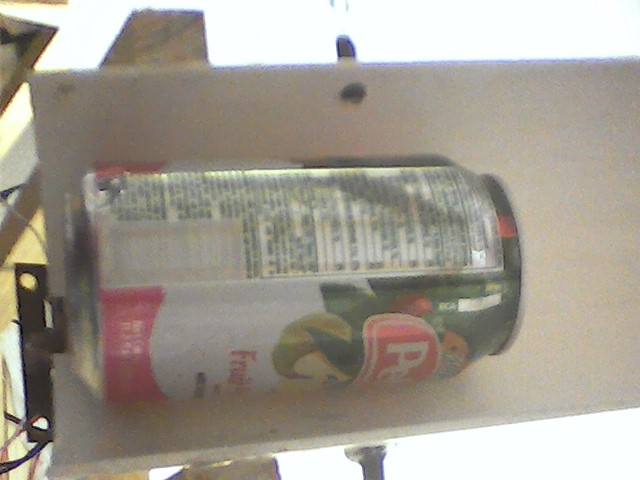lata: (56, 144, 532, 416)
